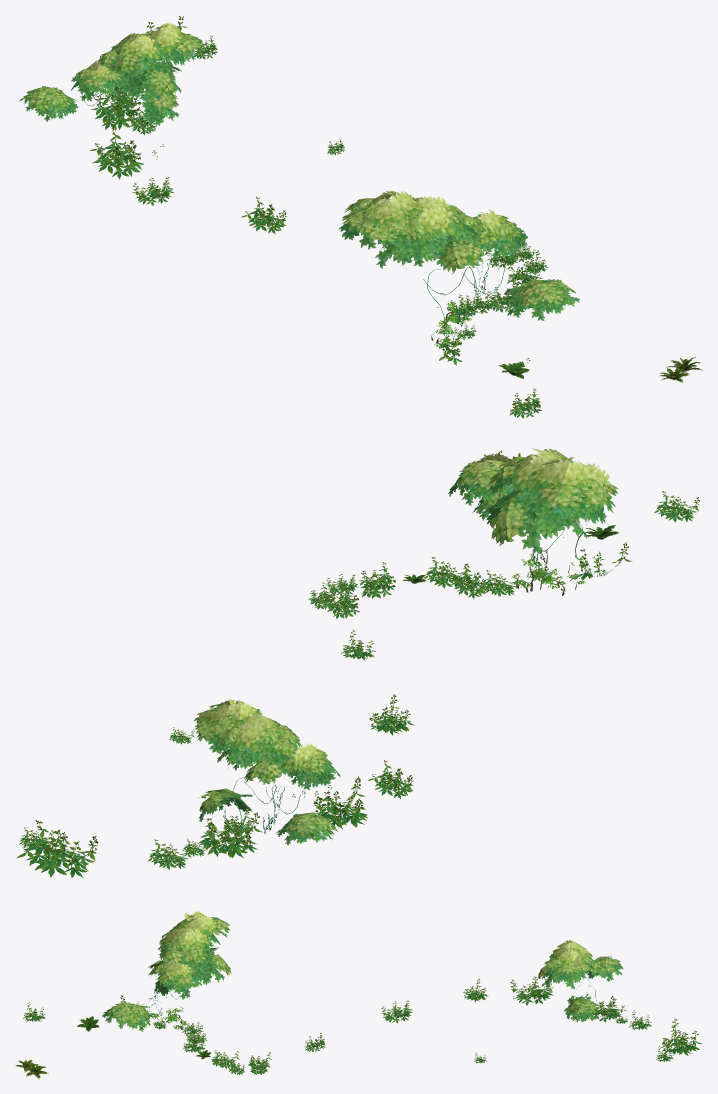
Rendered from zhibei17_1.fbx.
3 views of the same model, one above another, from view 1: azimuth 30°, elevation 25°; view 2: azimuth 150°, elevation 25°; view 3: azimuth 270°, elevation 25° (orthographic). The views are drawn at different scales.
Visible parts, largest first — view 1: zhibei17_1; view 2: zhibei17_1; view 3: zhibei17_1.
Part boxes in pixels (x1,y1,x2,y2): zhibei17_1: [19, 16, 703, 418]; zhibei17_1: [16, 448, 699, 877]; zhibei17_1: [15, 910, 702, 1079].
Bounding box in the file's own units: 2404 × 1202 × 7282.
